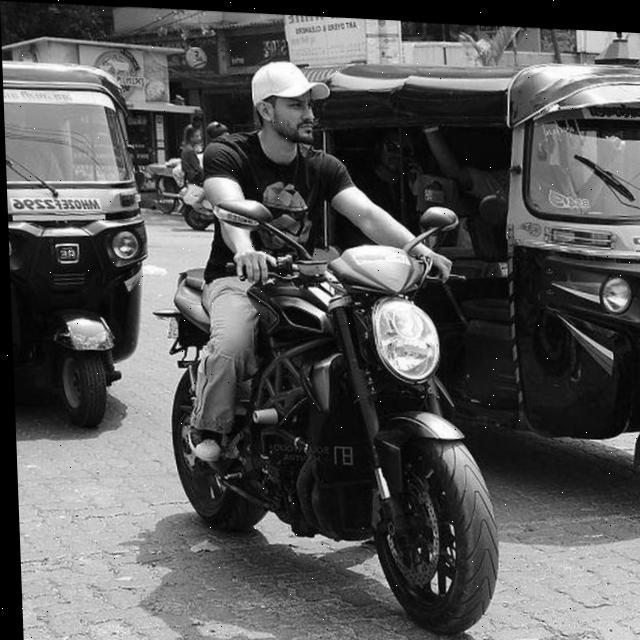without helmet: (234, 54, 329, 149)
